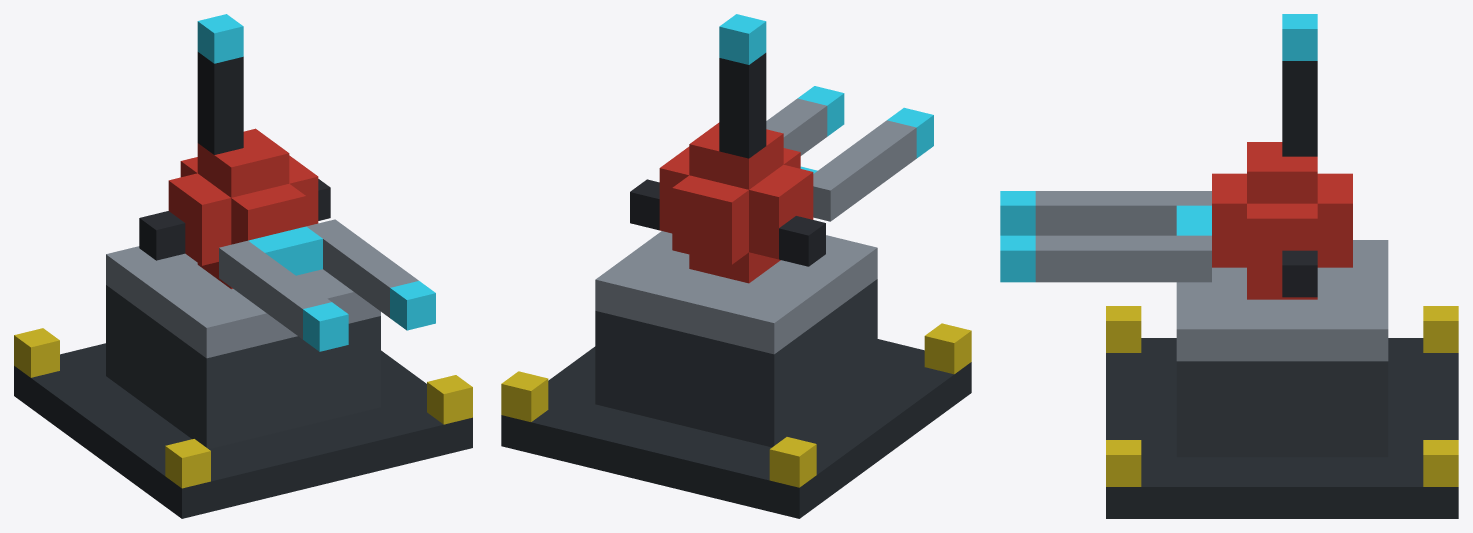
Rendered from mech_turret_light.glb.
3 views of the same model, side by side, from view 1: azimuth 30°, elevation 25°; view 2: azimuth 150°, elevation 25°; view 3: azimuth 270°, elevation 25° (orthographic). The views are drawn at different scales.
Visible parts, largest first — view 1: Base mesh, Pedestal mesh, Dome mesh, Collar mesh, Barrel mesh, Antenna mesh, Bolt mesh, Muzzle mesh, Vent mesh, Eye mesh; view 2: Base mesh, Pedestal mesh, Collar mesh, Dome mesh, Barrel mesh, Antenna mesh, Bolt mesh, Vent mesh, Muzzle mesh; view 3: Base mesh, Pedestal mesh, Collar mesh, Dome mesh, Barrel mesh, Bolt mesh, Antenna mesh, Muzzle mesh, Vent mesh, Eye mesh.
Part boxes in pixels (left/top/right/bottom): Base mesh: left=14, top=343, right=472, bottom=518; Pedestal mesh: left=106, top=285, right=380, bottom=448; Dome mesh: left=168, top=128, right=318, bottom=288; Collar mesh: left=106, top=246, right=380, bottom=358; Barrel mesh: left=219, top=219, right=418, bottom=339; Antenna mesh: left=197, top=14, right=243, bottom=154; Bolt mesh: left=14, top=328, right=472, bottom=488; Muzzle mesh: left=303, top=281, right=435, bottom=351; Vent mesh: left=139, top=179, right=330, bottom=260; Eye mesh: left=248, top=226, right=322, bottom=275; Base mesh: left=501, top=339, right=971, bottom=518; Pedestal mesh: left=595, top=279, right=877, bottom=447; Collar mesh: left=595, top=231, right=877, bottom=354; Dome mesh: left=659, top=122, right=813, bottom=283; Barrel mesh: left=766, top=98, right=916, bottom=221; Antenna mesh: left=719, top=14, right=766, bottom=158; Bolt mesh: left=501, top=323, right=971, bottom=487; Vent mesh: left=630, top=179, right=825, bottom=266; Muzzle mesh: left=797, top=86, right=933, bottom=158; Base mesh: left=1106, top=338, right=1458, bottom=518; Pedestal mesh: left=1176, top=361, right=1388, bottom=457; Collar mesh: left=1176, top=240, right=1388, bottom=361; Dome mesh: left=1212, top=142, right=1352, bottom=299; Barrel mesh: left=1035, top=191, right=1211, bottom=282; Bolt mesh: left=1106, top=306, right=1458, bottom=486; Antenna mesh: left=1282, top=14, right=1317, bottom=156; Muzzle mesh: left=1000, top=191, right=1035, bottom=282; Vent mesh: left=1282, top=250, right=1317, bottom=297; Eye mesh: left=1176, top=205, right=1211, bottom=235.
Size of the model in its own units: 10 by 13 by 13.
1 material, 1 textured.
